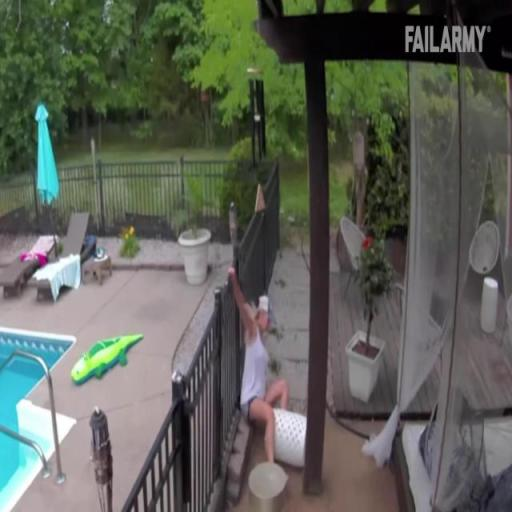Fall: (224, 253, 293, 473)
